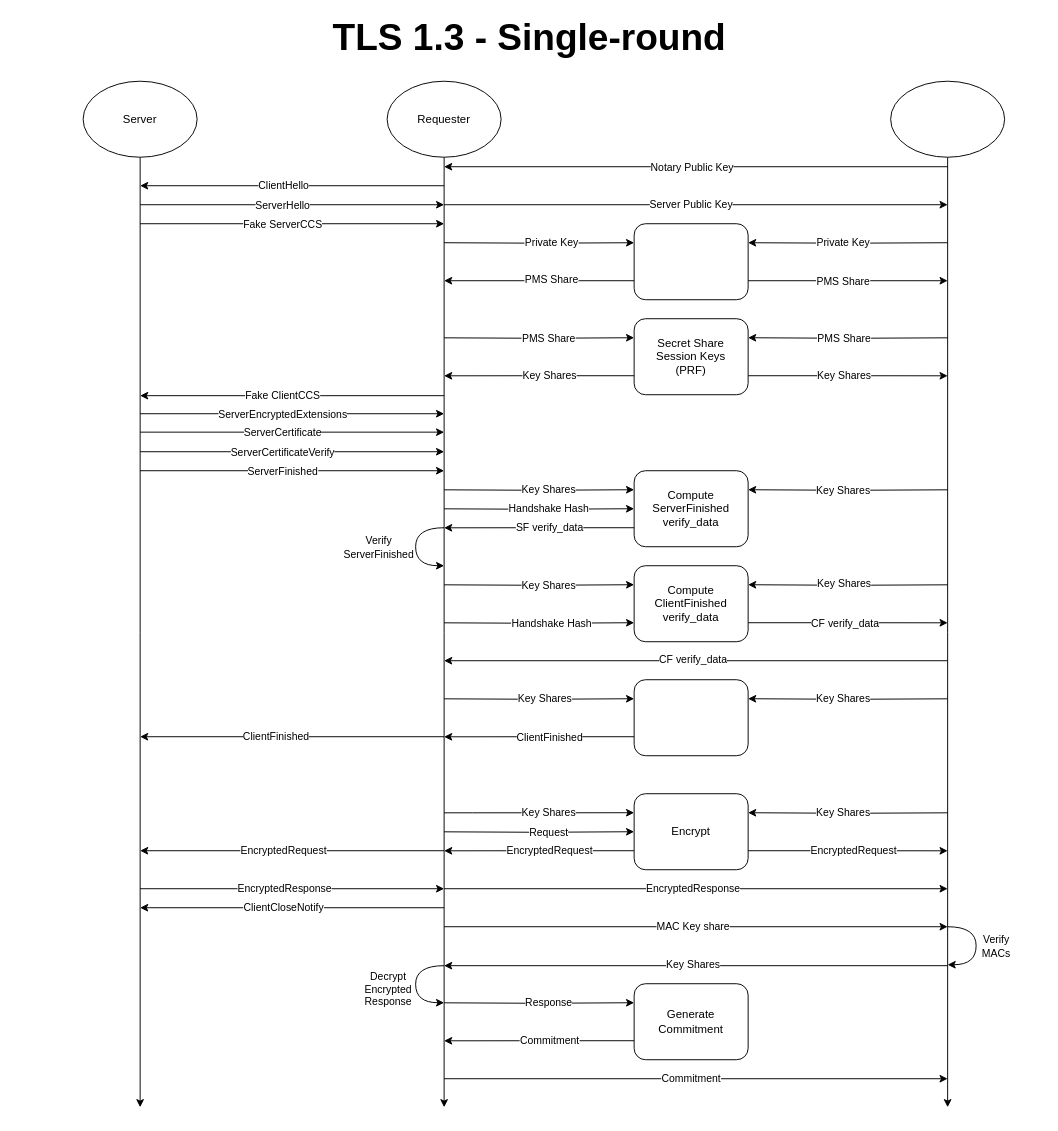
Some shapes in this 1058 by 1131 pixel diagram are drawn without their labels. Each missing label, with the centre of its shape:
"Encrypt ClientFinished" belongs at pixel 690 717.
"Notary" belongs at pixel 947 118.
"Secret Share PMS" belongs at pixel 690 261.
